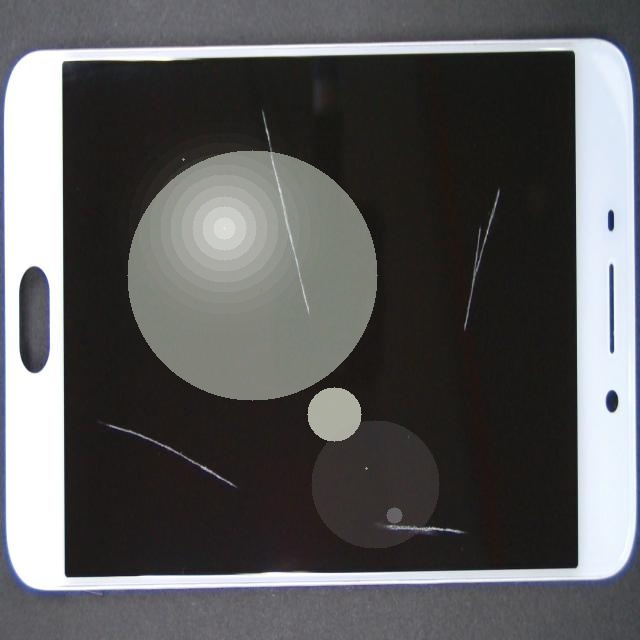scratch: (292, 265, 640, 640), (174, 226, 481, 441), (264, 141, 640, 289), (208, 295, 314, 640)
